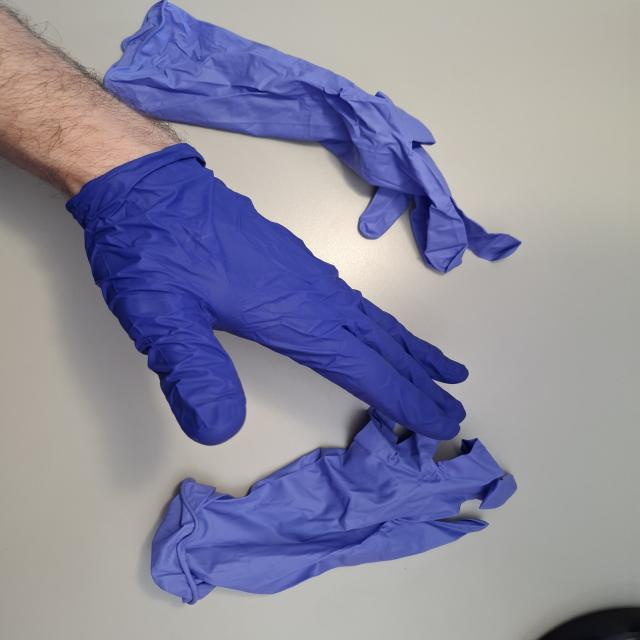glove_on: (63, 134, 474, 448)
